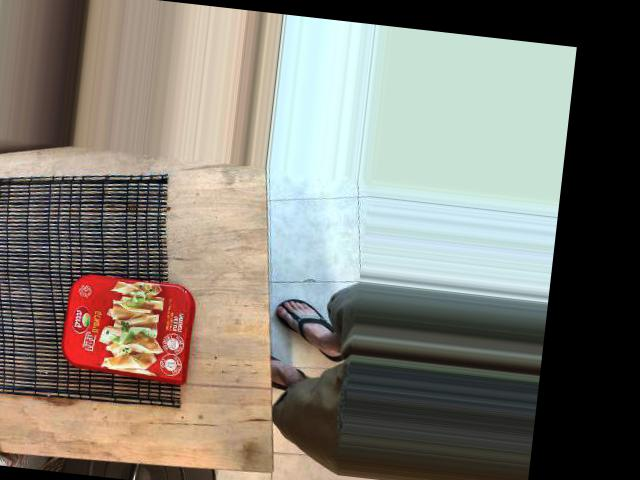cheese: (36, 140, 180, 346)
